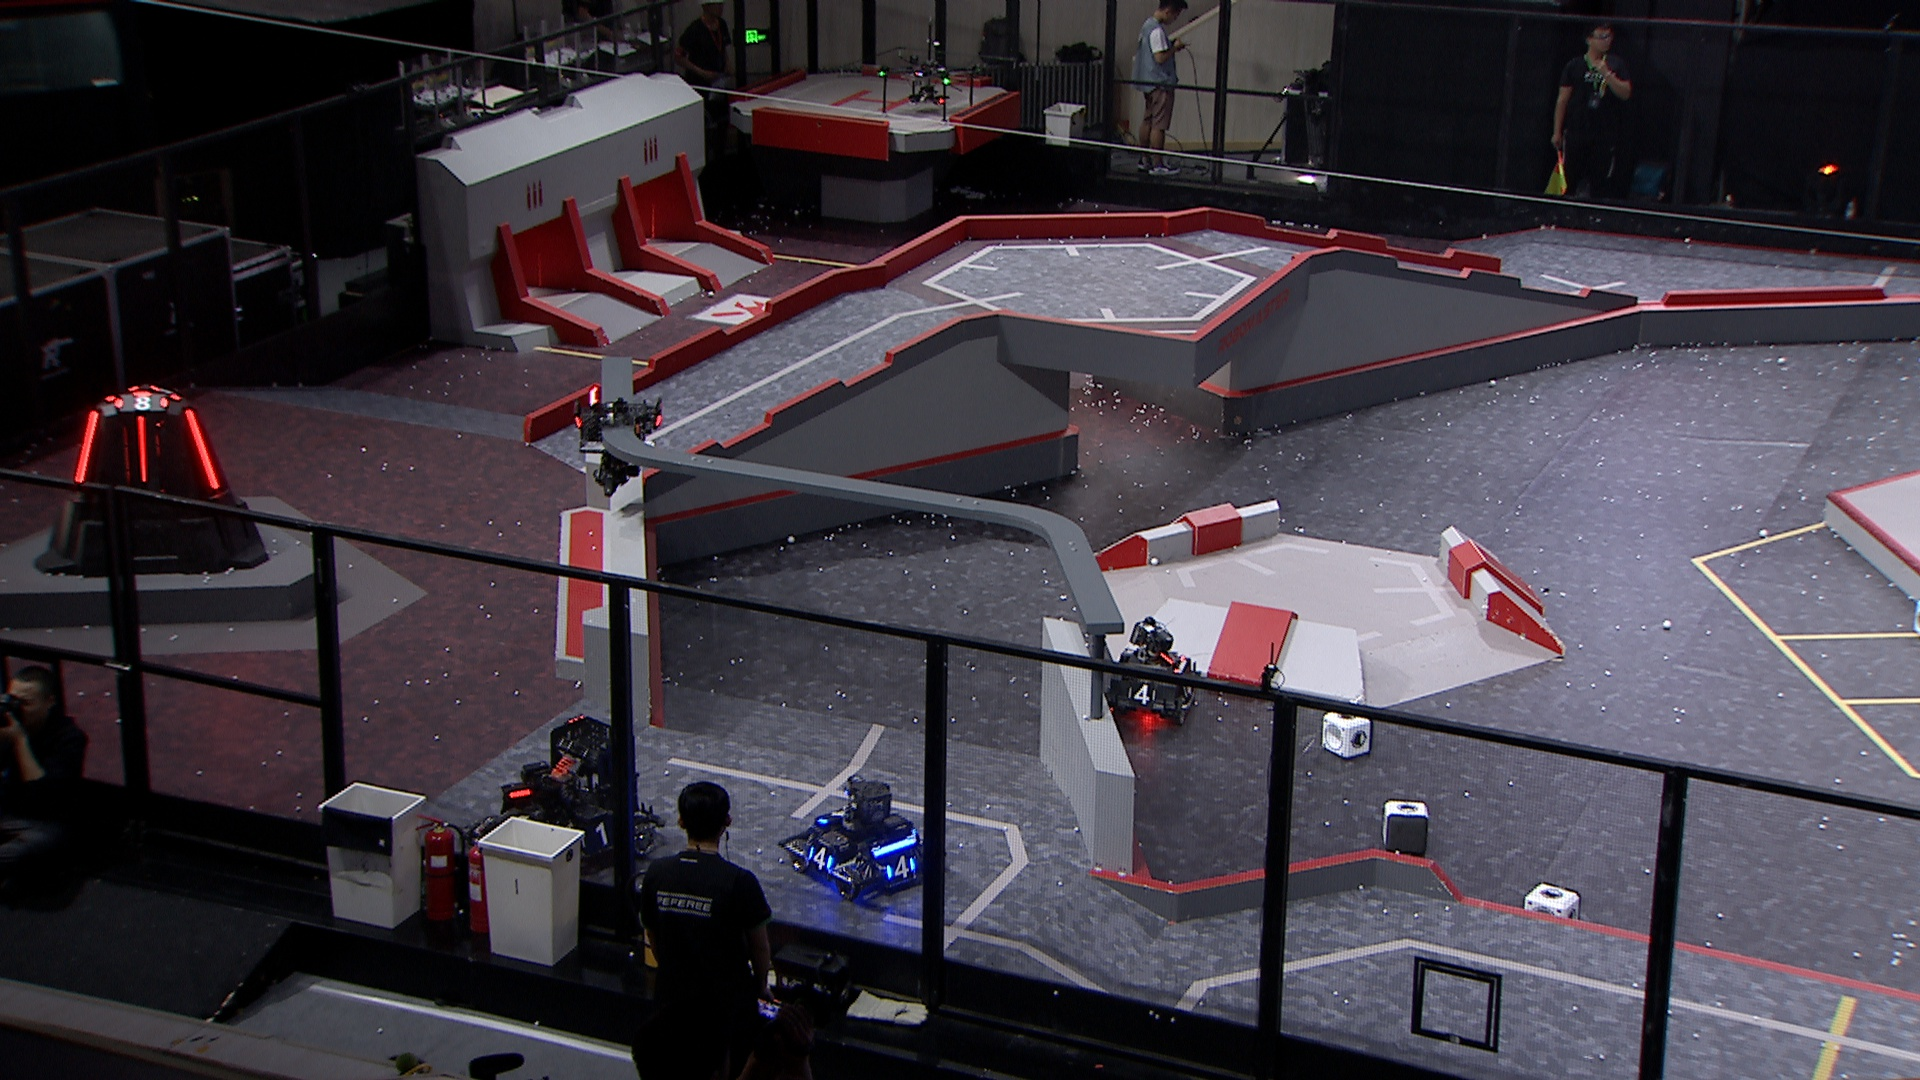armor: (181, 405, 223, 491), (73, 407, 102, 485), (112, 390, 169, 413), (135, 414, 150, 485), (885, 855, 920, 884), (580, 822, 615, 849), (1125, 683, 1158, 704), (807, 847, 837, 869), (818, 808, 847, 827)
base: (36, 382, 269, 578)
car: (472, 709, 670, 876), (775, 773, 940, 899), (1102, 618, 1203, 728)
watcher: (574, 386, 662, 498)
